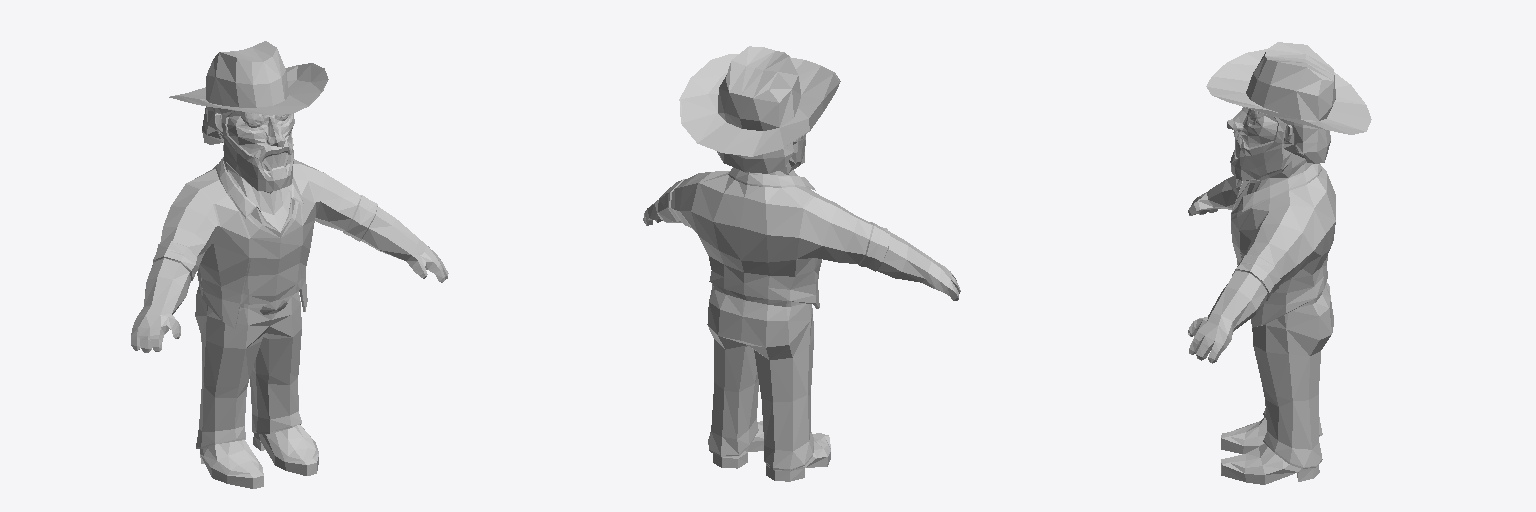
Rendered from chuck.obj.
3 renders of one model, left to right at view 1: azimuth 30°, elevation 25°; view 2: azimuth 150°, elevation 25°; view 3: azimuth 270°, elevation 25°, orthographic.
Visible parts, largest first — view 1: catB_geo; view 2: catB_geo; view 3: catB_geo.
Part boxes in pixels (bbox=[...]): catB_geo: bbox=[131, 41, 448, 488]; catB_geo: bbox=[643, 46, 960, 481]; catB_geo: bbox=[1188, 42, 1371, 484].
Bounding box in the file's own units: 145 × 180 × 73.24.